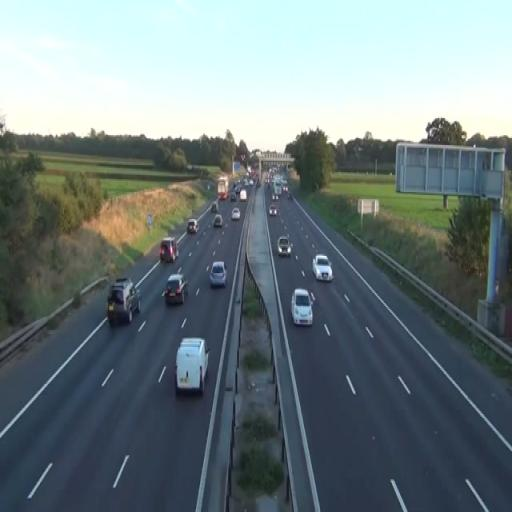Car: (106, 277, 141, 325), (291, 288, 314, 326), (165, 273, 189, 306), (312, 254, 334, 282), (160, 236, 178, 263), (210, 261, 227, 288), (276, 234, 292, 258), (186, 219, 200, 235), (213, 214, 223, 228), (231, 207, 240, 221)
Truck: (174, 337, 210, 397)
